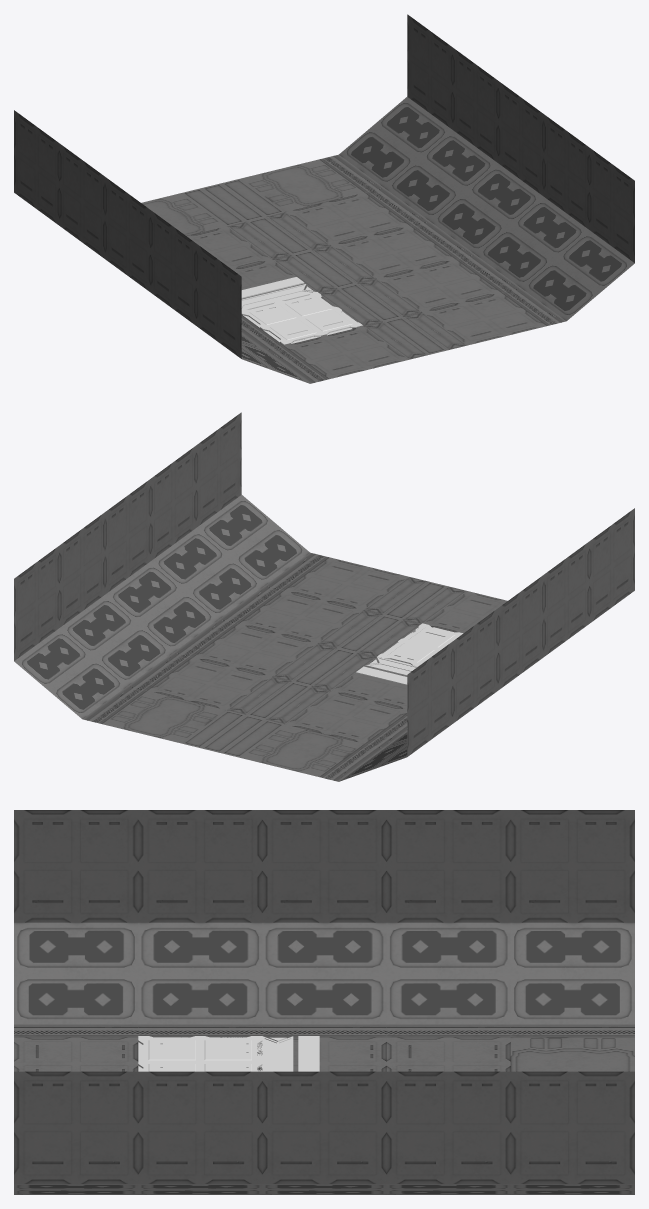
File: Sci-fi-texture_Test_One.fbx
3 views of the same model, one above another, from view 1: azimuth 30°, elevation 25°; view 2: azimuth 150°, elevation 25°; view 3: azimuth 270°, elevation 25° (orthographic). The views are drawn at different scales.
Visible parts, largest first — view 1: Plane4.003, Plane4.HP, Plane3.HP.001, Plane3.HP.002; view 2: Plane4.003, Plane4.HP; view 3: Plane4.003, Plane4.HP, Plane3.HP.001, Plane3.HP.002.
Part boxes in pixels (bbox=[...]): Plane4.003: bbox=[14, 14, 634, 383]; Plane4.HP: bbox=[241, 292, 362, 344]; Plane3.HP.001: bbox=[241, 284, 316, 310]; Plane3.HP.002: bbox=[241, 277, 304, 298]; Plane4.003: bbox=[14, 412, 634, 781]; Plane4.HP: bbox=[377, 623, 463, 666]; Plane4.003: bbox=[14, 810, 634, 1194]; Plane4.HP: bbox=[138, 1036, 262, 1071]; Plane3.HP.001: bbox=[262, 1036, 293, 1071]; Plane3.HP.002: bbox=[298, 1036, 319, 1071].
Bounding box in the file's own units: 498 × 152 × 500.
